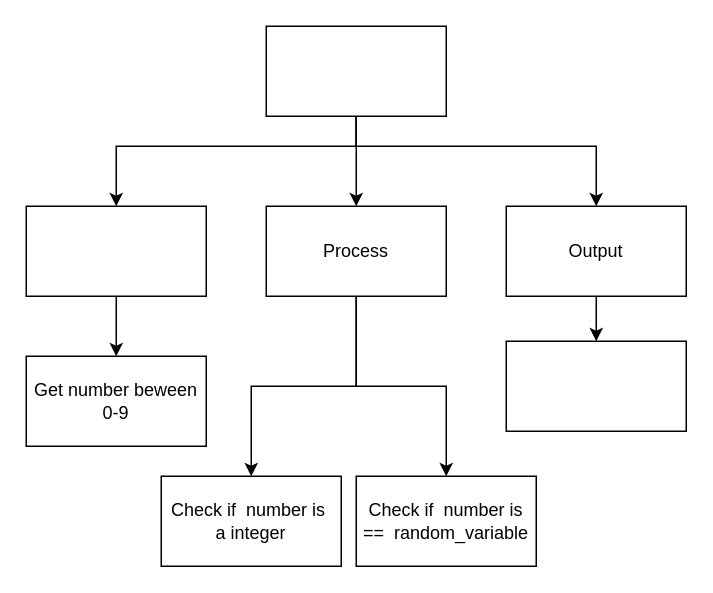
Image size: 713x593. Some labels were removed from this diagram. The centre of each missing label's shape, as x and y in pixels:
"Guess the number" belongs at (x=355, y=70).
"Input" belongs at (x=115, y=250).
"show if right or wrong or if input is a integer" belongs at (x=595, y=385).
